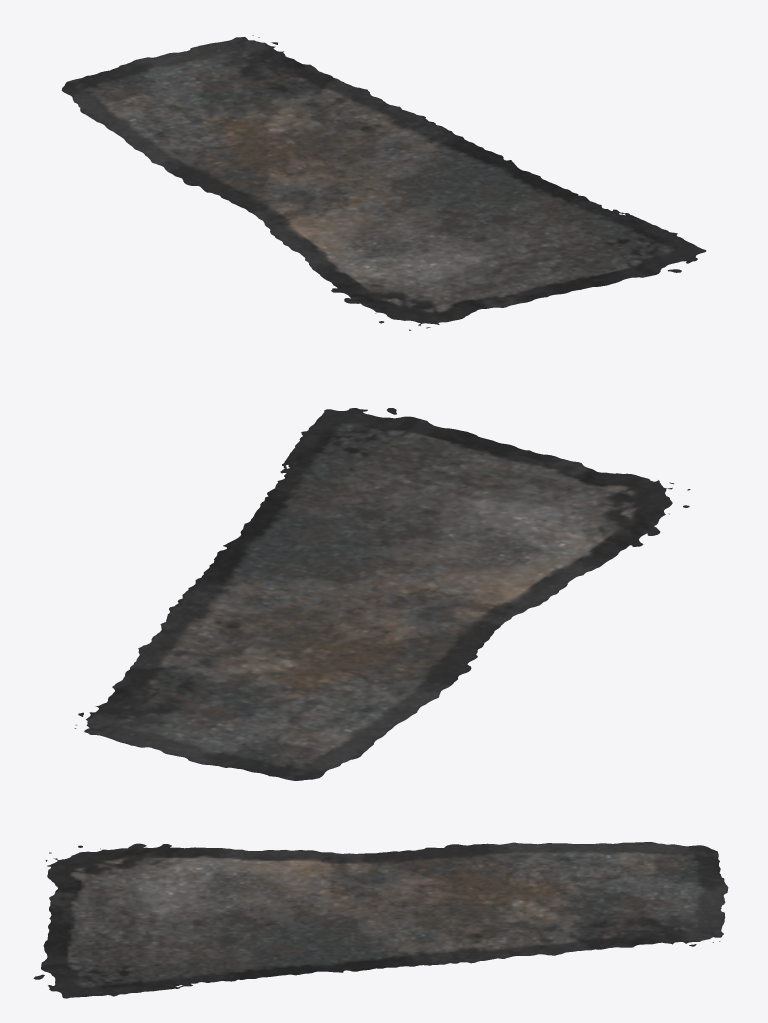
Rendered from CP_Broken_Asphalt_08.fbx.
The picture shows the model from 3 angles, top to bottom: view 1: azimuth 30°, elevation 25°; view 2: azimuth 150°, elevation 25°; view 3: azimuth 270°, elevation 25°; orthographic projection. The views are drawn at different scales.
Parts seen in each view (by area): view 1: CP_Broken_Asphalt_08; view 2: CP_Broken_Asphalt_08; view 3: CP_Broken_Asphalt_08.
Boxes of the visible parts, left/top/right/bottom form: CP_Broken_Asphalt_08: left=61, top=35, right=706, bottom=330; CP_Broken_Asphalt_08: left=74, top=408, right=690, bottom=780; CP_Broken_Asphalt_08: left=33, top=842, right=728, bottom=998.
Size of the model in its own units: 71.52 by 1.19e-07 by 129.
